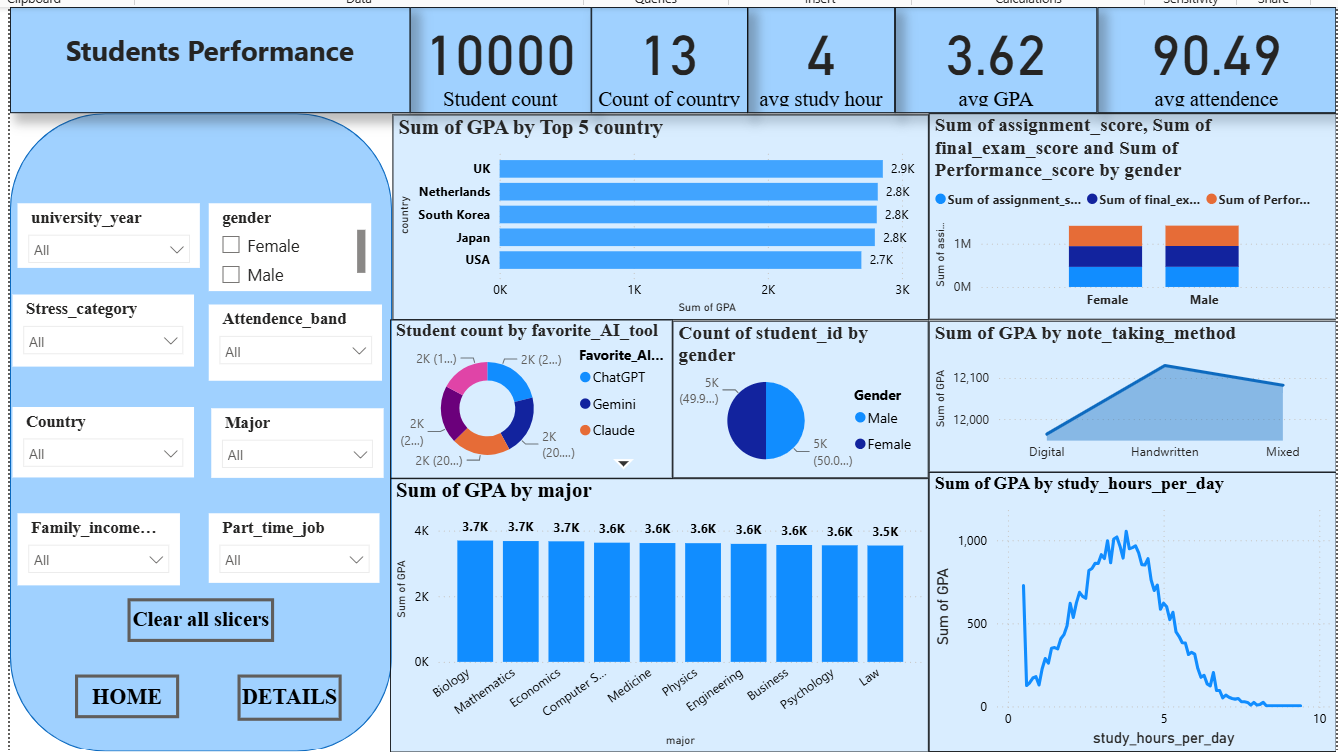

The dashboard page shown, as its layout file describes it:
{"tool":"powerbi","page":{"name":"Page 1","canvas":[1280,720],"ordinal":0},"visuals":[{"type":"shape","title":"All Slicers","box":[0,103,368.7,616.9],"z":0},{"type":"card","fields":{"Values":["Student Performance.Student count"]},"box":[386.1,0,174.9,102.5],"z":1000},{"type":"card","fields":{"Values":["Student Performance.avg attendence"]},"box":[1049.6,0,230.4,102.5],"z":2000},{"type":"card","fields":{"Values":["Student Performance.avg GPA"]},"box":[854.2,0,195.4,102.5],"z":3000},{"type":"card","fields":{"Values":["Student Performance.avg study hour"]},"box":[711.8,0,142.4,102.5],"z":4000},{"type":"slicer","fields":{"Values":["Student Performance.university_year"]},"box":[5.8,189.9,174,60],"z":5000},{"type":"slicer","fields":{"Values":["Student Performance.country"]},"box":[4.1,389.4,174,60],"z":6000},{"type":"slicer","fields":{"Values":["Student Performance.gender"]},"box":[192.4,189.9,174,60],"z":7000},{"type":"slicer","fields":{"Values":["Student Performance.major"]},"box":[193.6,389.4,174,60],"z":8000},{"type":"slicer","fields":{"Values":["Student Performance.Attendence_band"]},"box":[192.8,289.6,174,60],"z":9000},{"type":"slicer","fields":{"Values":["Student Performance.part_time_job"]},"box":[193.2,489.1,174,60],"z":10000},{"type":"slicer","fields":{"Values":["Student Performance.family_income_level"]},"box":[7.4,489.1,174,60],"z":11000},{"type":"slicer","fields":{"Values":["Student Performance.Stress_category"]},"box":[2.5,289.6,174,60],"z":12000},{"type":"card","fields":{"Values":["Count(Student Performance.country)"]},"box":[561,0,150.8,102.5],"z":13000},{"type":"textbox","box":[0,0,386.1,102.5],"z":14000},{"type":"actionButton","box":[113,571,140,35],"z":15000},{"type":"clusteredColumnChart","fields":{"Category":["Student Performance.major"],"Y":["Sum(Student Performance.GPA)"]},"box":[366.8,454.8,520,265.4],"z":16000},{"type":"lineChart","fields":{"Category":["Student Performance.study_hours_per_day"],"Y":["Sum(Student Performance.GPA)"]},"box":[886.7,448.8,393.3,271.4],"z":17000},{"type":"clusteredBarChart","title":"Sum of GPA by Top 5 country","fields":{"Category":["Student Performance.country"],"Y":["Sum(Student Performance.GPA)"]},"box":[368.7,104.3,517.6,198.6],"z":18000},{"type":"pieChart","fields":{"Category":["Student Performance.gender"],"Y":["CountNonNull(Student Performance.student_id)"]},"box":[639.4,302.8,247.3,152],"z":19000},{"type":"donutChart","fields":{"Category":["Student Performance.favorite_AI_tool"],"Y":["Student Performance.Student count"]},"box":[366.8,301.6,272.7,153.2],"z":20000},{"type":"actionButton","box":[63.3,644.2,100.5,35],"z":23000},{"type":"actionButton","box":[219.7,644.2,100,35],"z":24000},{"type":"columnChart","fields":{"Category":["Student Performance.gender"],"Y":["Sum(Student Performance.assignment_score)","Sum(Student Performance.final_exam_score)","Sum(Student Performance.Performance_score)"]},"box":[886.7,102.5,393.3,199.1],"z":25000},{"type":"stackedAreaChart","fields":{"Category":["Student Performance.note_taking_method"],"Y":["Sum(Student Performance.GPA)"]},"box":[886.3,303.3,393.7,146.1],"z":26000}]}

Visuals, with their boxes in screenshot pixels (x1, y1, x2, y2):
"All Slicers" shape: bbox=(10, 110, 391, 746)
card - Student Performance.Student count: bbox=(408, 3, 589, 109)
card - Student Performance.avg attendence: bbox=(1092, 3, 1330, 109)
card - Student Performance.avg GPA: bbox=(891, 3, 1092, 109)
card - Student Performance.avg study hour: bbox=(744, 3, 891, 109)
slicer - Student Performance.university_year: bbox=(16, 199, 196, 261)
slicer - Student Performance.country: bbox=(15, 405, 194, 467)
slicer - Student Performance.gender: bbox=(209, 199, 388, 261)
slicer - Student Performance.major: bbox=(210, 405, 389, 467)
slicer - Student Performance.Attendence_band: bbox=(209, 302, 389, 364)
slicer - Student Performance.part_time_job: bbox=(210, 508, 389, 570)
slicer - Student Performance.family_income_level: bbox=(18, 508, 197, 570)
slicer - Student Performance.Stress_category: bbox=(13, 302, 192, 364)
card - Count(Student Performance.country): bbox=(589, 3, 744, 109)
textbox: bbox=(10, 3, 408, 109)
actionButton: bbox=(127, 592, 271, 628)
clusteredColumnChart - Student Performance.major x Sum(Student Performance.GPA): bbox=(389, 472, 925, 746)
lineChart - Student Performance.study_hours_per_day x Sum(Student Performance.GPA): bbox=(925, 466, 1330, 746)
"Sum of GPA by Top 5 country" clusteredBarChart: bbox=(391, 111, 924, 316)
pieChart - Student Performance.gender x CountNonNull(Student Performance.student_id): bbox=(670, 316, 925, 472)
donutChart - Student Performance.favorite_AI_tool x Student Performance.Student count: bbox=(389, 314, 670, 472)
actionButton: bbox=(76, 668, 179, 704)
actionButton: bbox=(237, 668, 340, 704)
columnChart - Student Performance.gender x Sum(Student Performance.assignment_score): bbox=(925, 109, 1330, 314)
stackedAreaChart - Student Performance.note_taking_method x Sum(Student Performance.GPA): bbox=(924, 316, 1330, 467)
